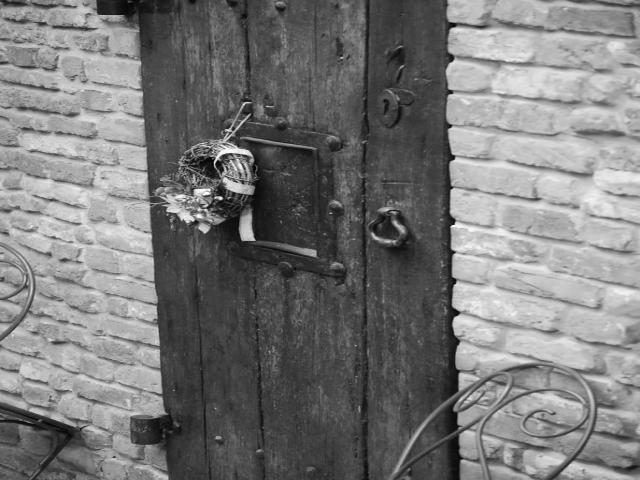Door-handle: (365, 206, 410, 247)
